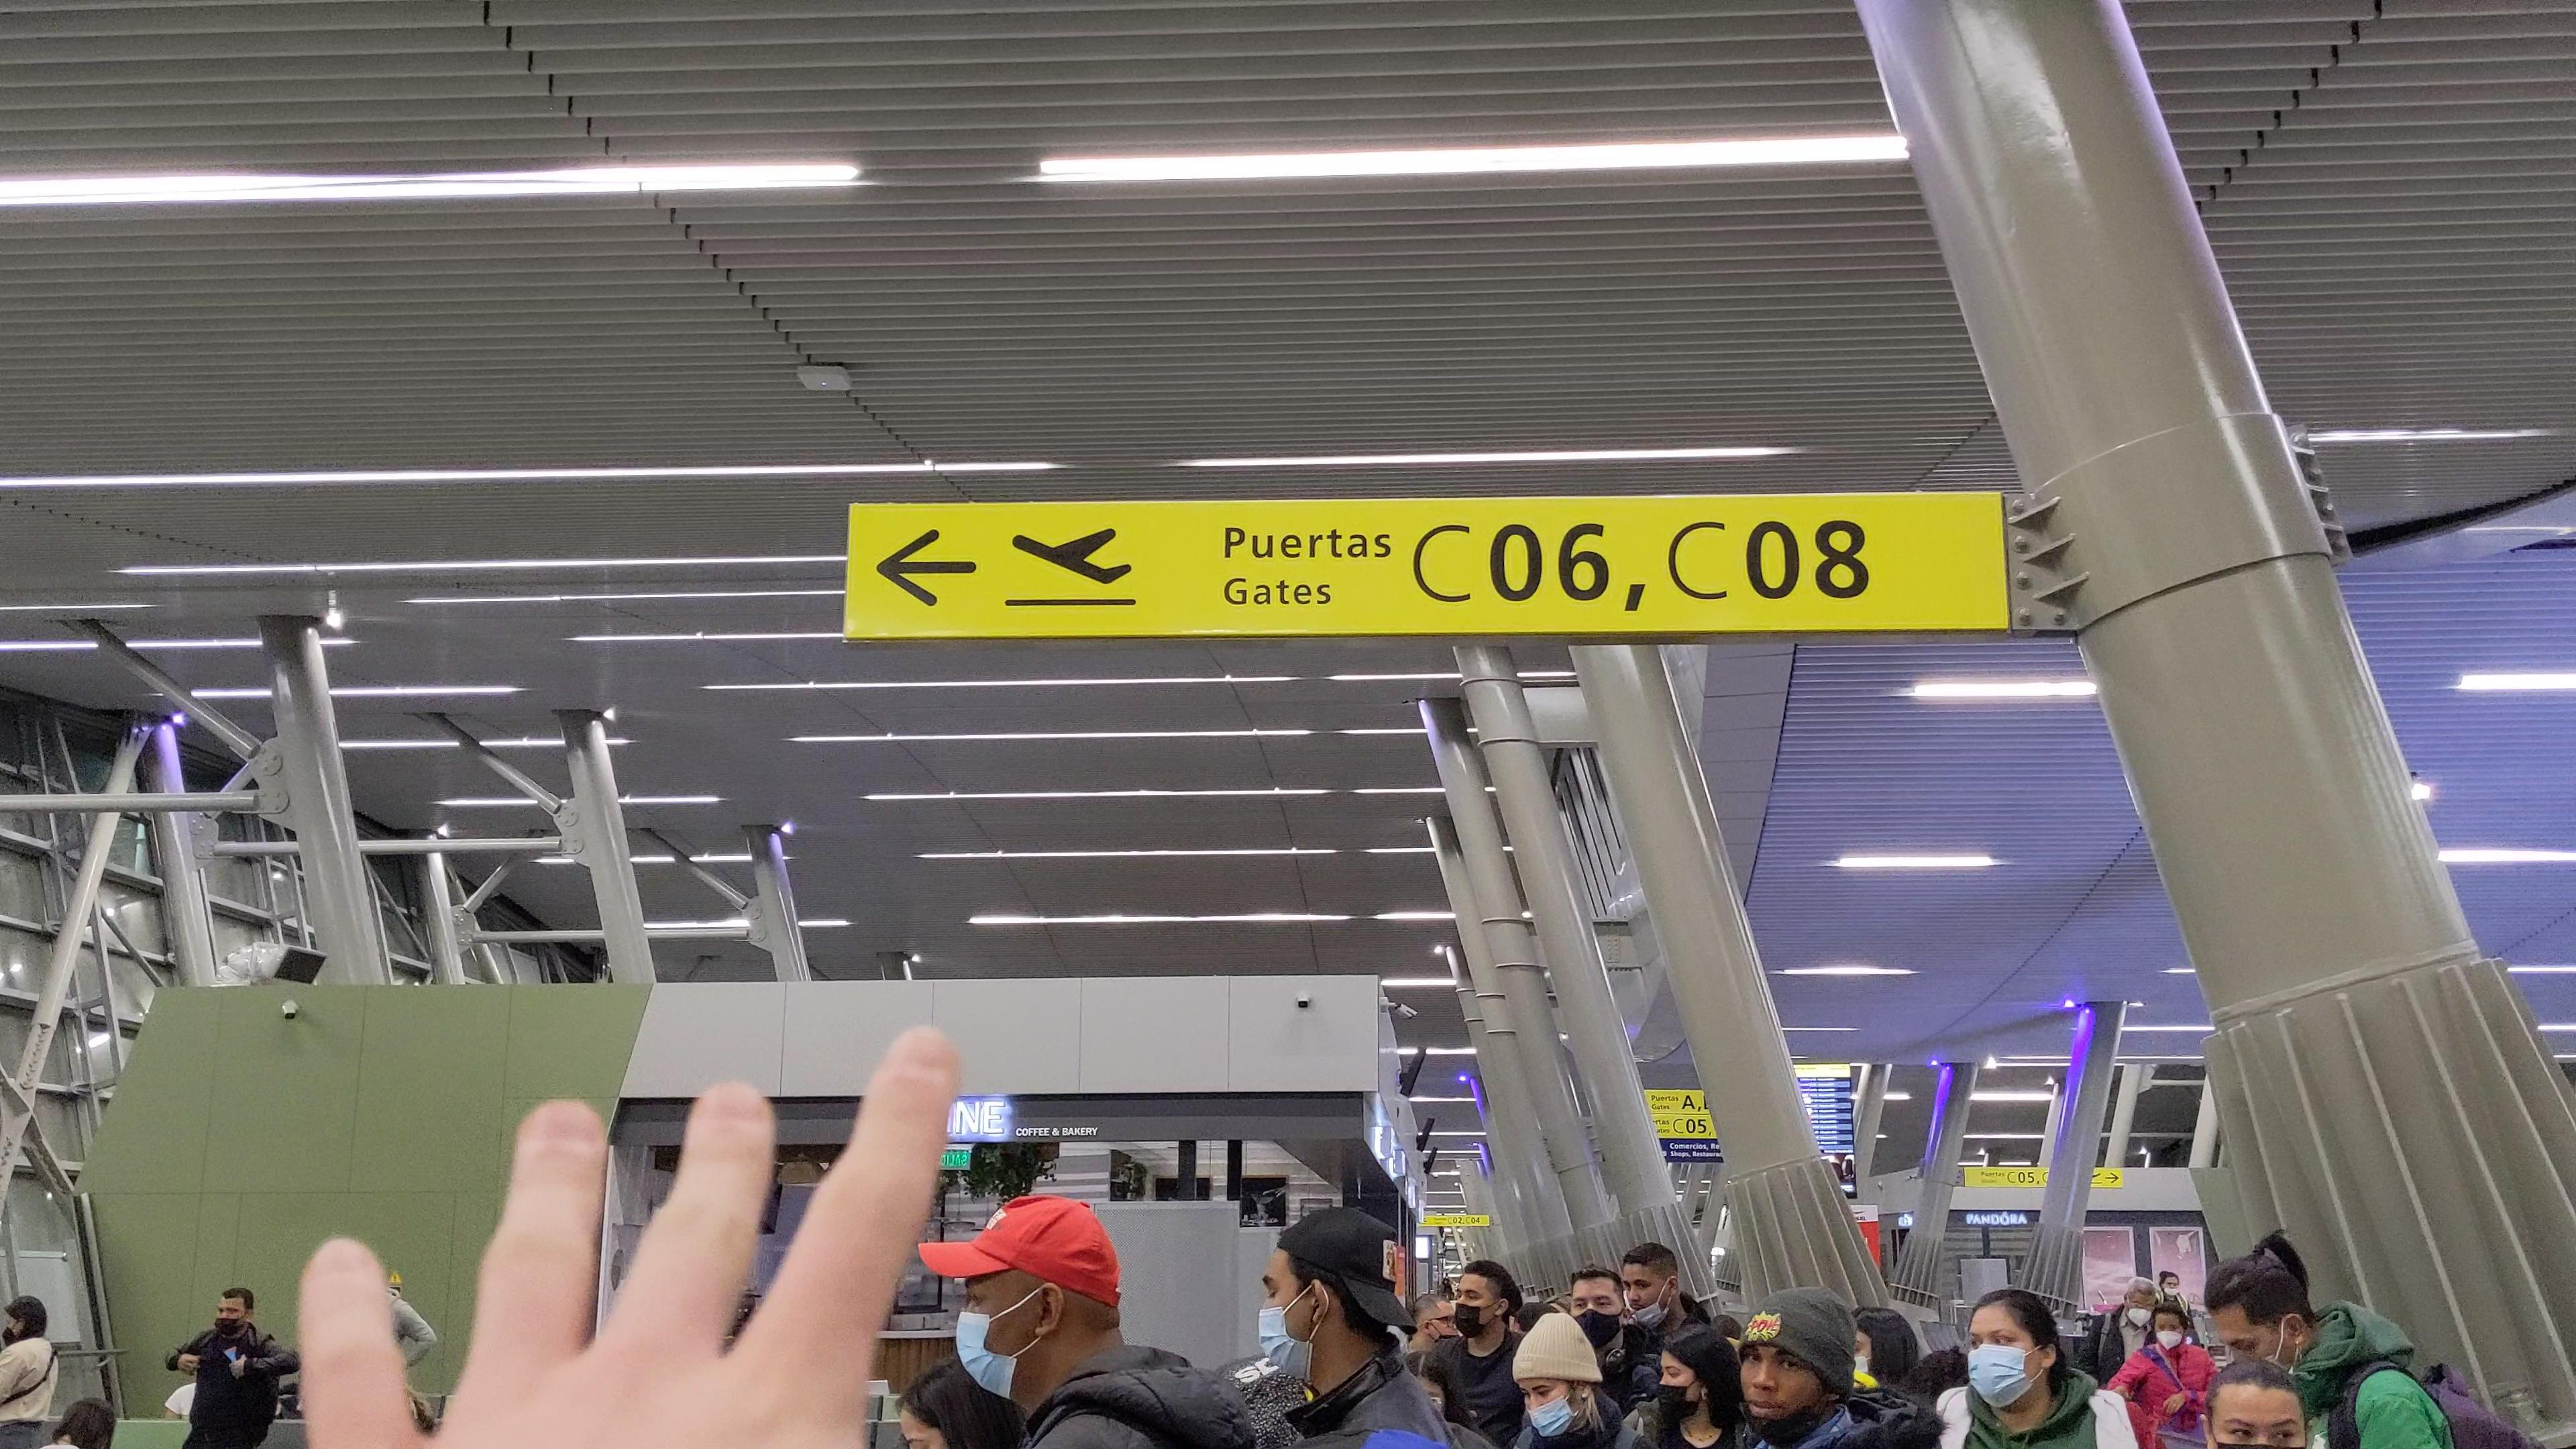airplane symbol: (1008, 515, 1139, 596)
thin left arrow: (870, 524, 993, 609)
thin right arrow: (2104, 1171, 2120, 1184)
